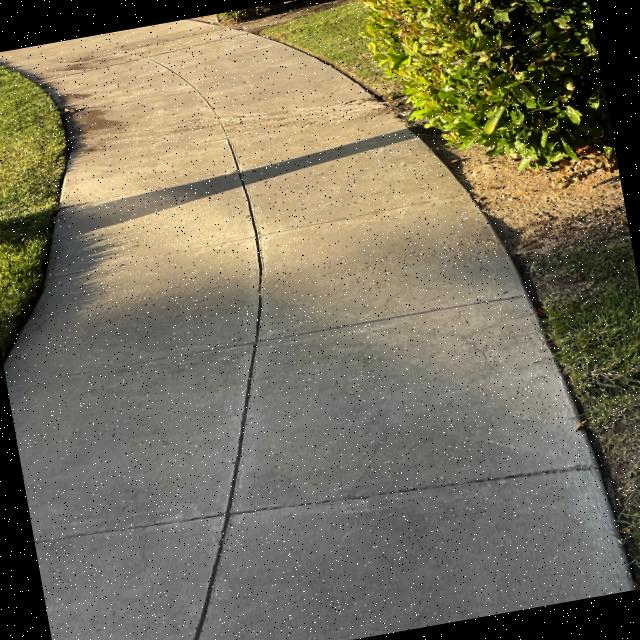walkway: (3, 276, 550, 525), (40, 398, 600, 640), (42, 175, 486, 402), (72, 92, 404, 326), (47, 28, 298, 235), (81, 49, 332, 224)
walkway-edge: (511, 269, 640, 601), (474, 190, 620, 470), (418, 105, 557, 322), (336, 37, 432, 161), (0, 38, 91, 153), (0, 217, 70, 360), (258, 5, 358, 96), (24, 126, 92, 247)
